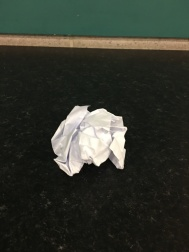paper_white: (46, 98, 147, 185)
